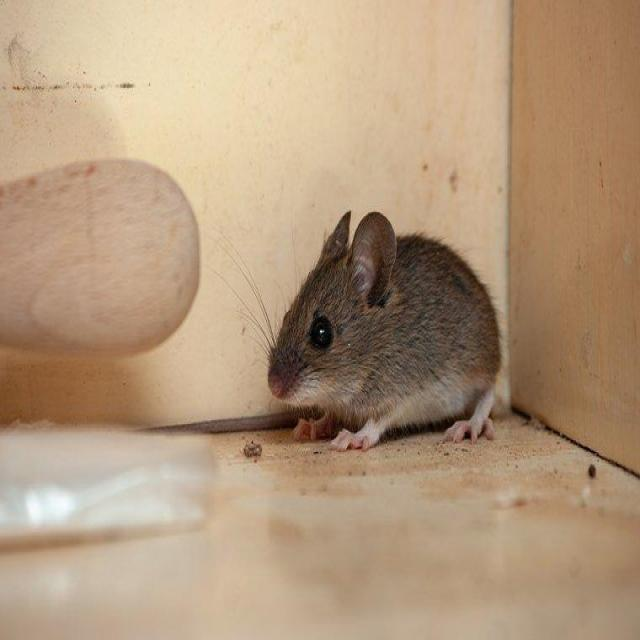rat: (248, 201, 540, 459)
